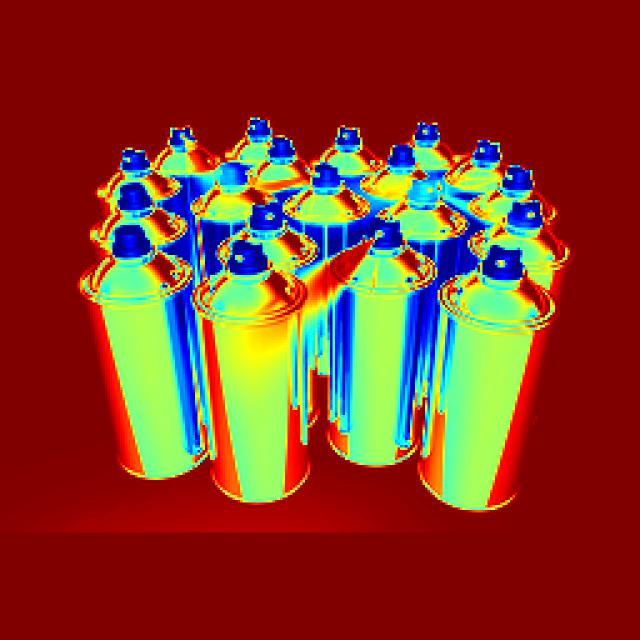Aerosol Cans: (75, 210, 211, 473), (203, 237, 317, 521), (442, 242, 528, 536)
